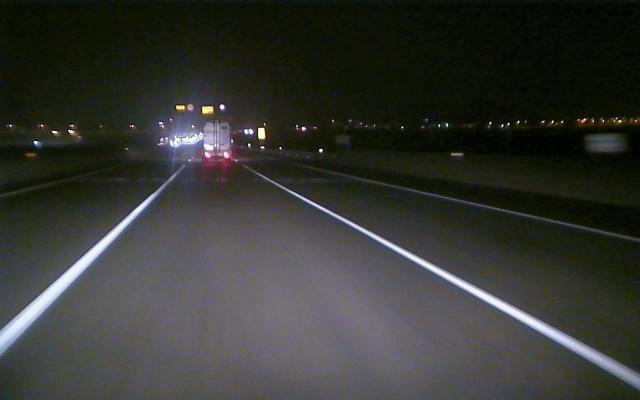lane: (261, 175, 637, 386), (2, 194, 155, 354), (370, 179, 639, 243)
